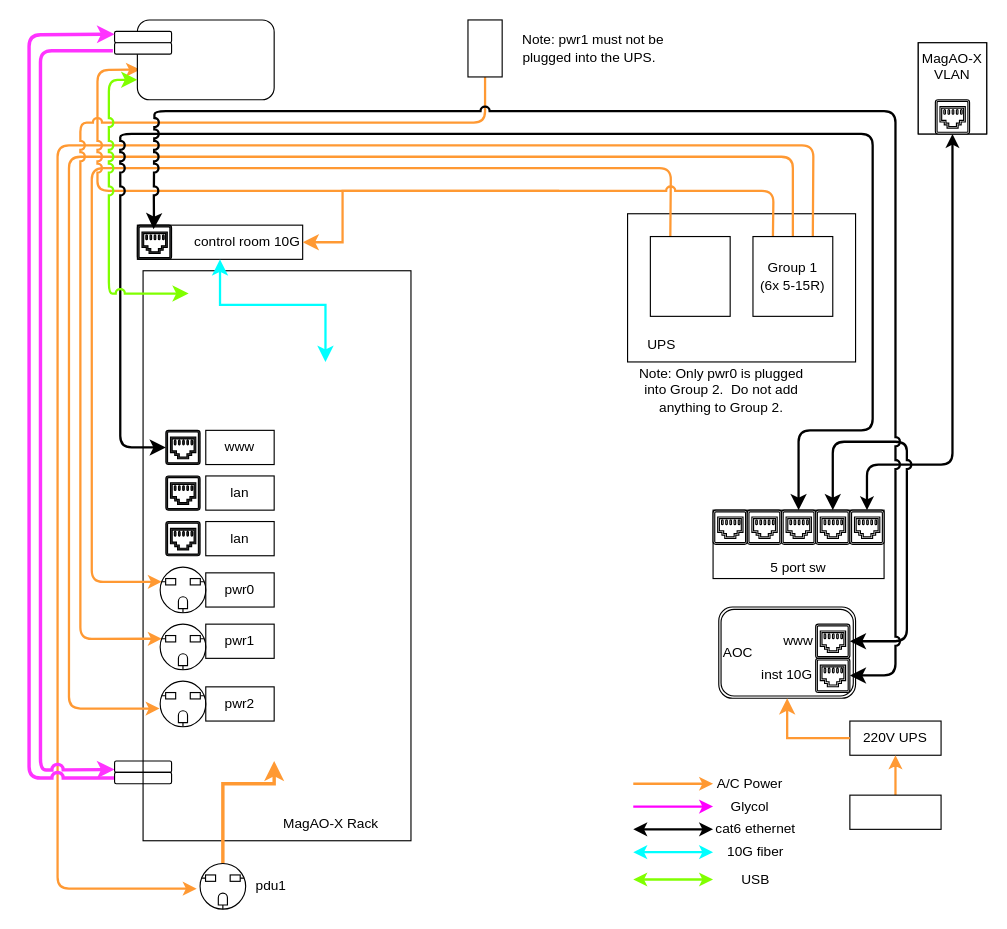
Some shapes in this 1007 by 929 pixel diagram are drawn without their labels. The shapes that lost their labels are listed below. From the top down, each one's centre as x and y in pixels, then its label:
At point 205,59: "lab cooler".
At point 484,48: "wall 120".
At point 689,275: "Group 2 (3x 5-20R)".
At point 895,811: "Wall 220V".
